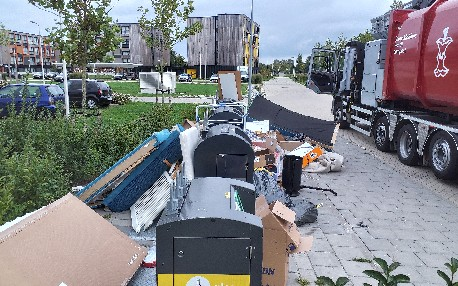Container: (162, 168, 260, 286), (207, 123, 254, 179), (211, 97, 243, 129)
Papier: (18, 206, 150, 286), (266, 205, 292, 286)
Rest: (132, 124, 187, 235), (84, 167, 161, 237), (254, 118, 314, 180), (263, 162, 312, 223)
Voertuig: (2, 77, 66, 114), (63, 73, 107, 105)
